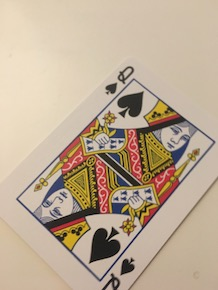QueenOfSpades: (2, 51, 217, 290)
